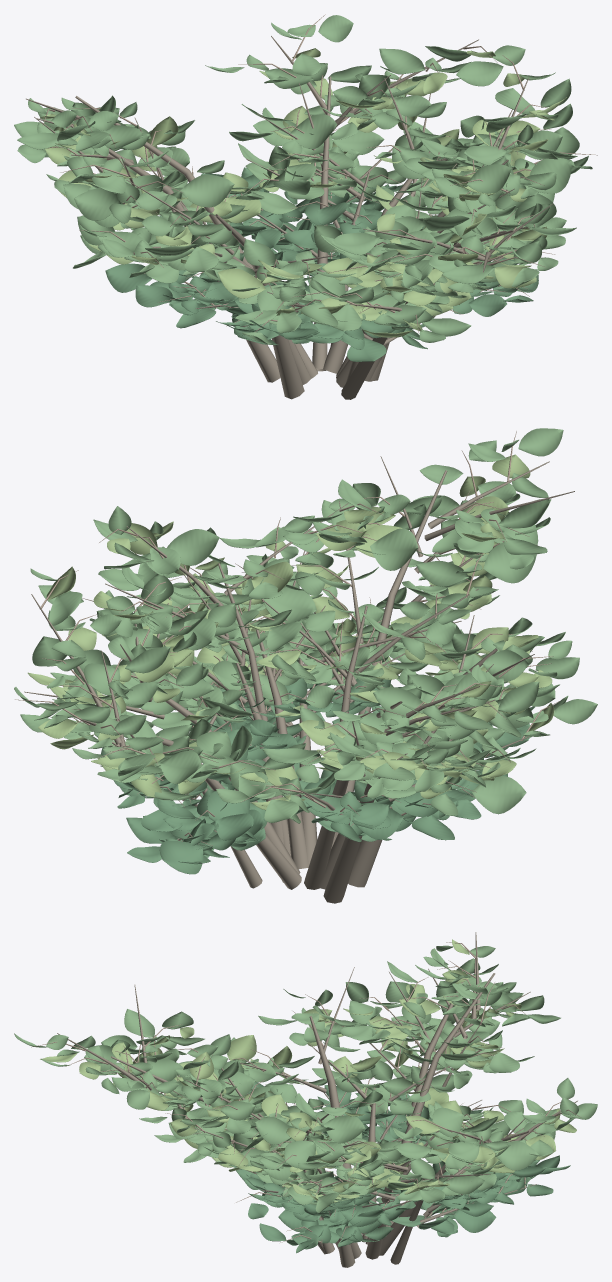
3 renders of one model, top to bottom at view 1: azimuth 30°, elevation 25°; view 2: azimuth 150°, elevation 25°; view 3: azimuth 270°, elevation 25°, orthographic. The views are drawn at different scales.
Visible parts, largest first — view 1: bush_compact; view 2: bush_compact; view 3: bush_compact.
Boxes of the visible parts, box(x1,y1,x2,y2) form: bush_compact: box(14, 14, 597, 399); bush_compact: box(14, 428, 597, 903); bush_compact: box(14, 932, 597, 1267).
Bounding box in the file's own units: 2.44 × 1.38 × 3.15.
